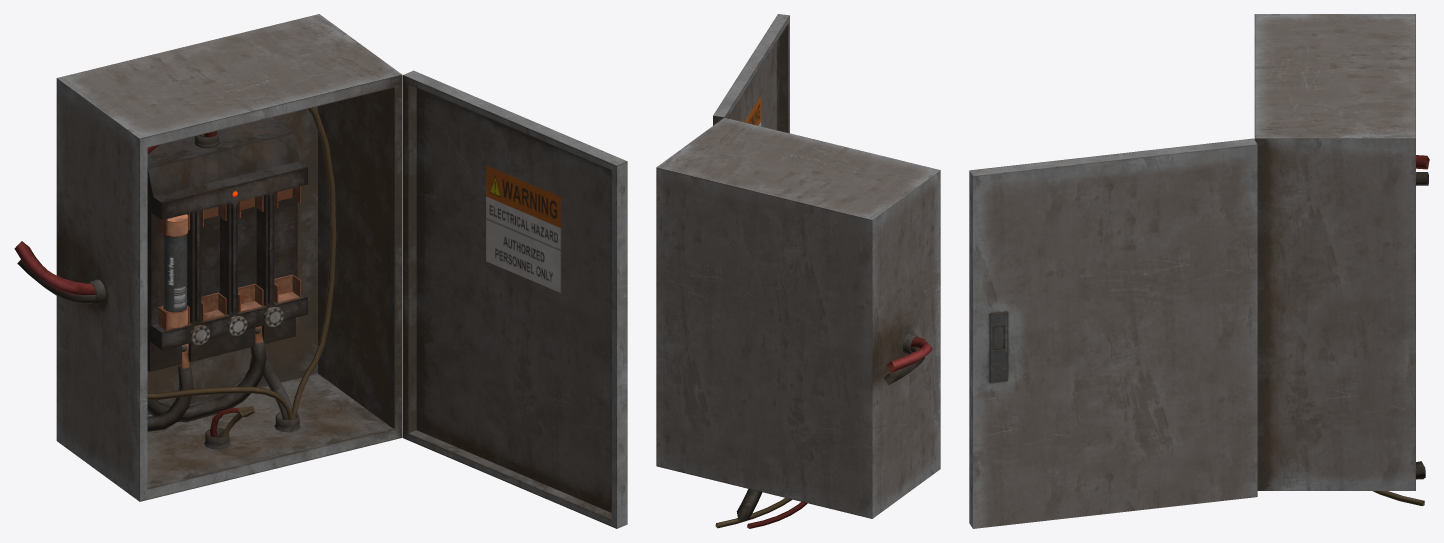
Rendered from Fuse3d.fbx.
The picture shows the model from 3 angles, left to right: view 1: azimuth 30°, elevation 25°; view 2: azimuth 150°, elevation 25°; view 3: azimuth 270°, elevation 25°; orthographic projection. The views are drawn at different scales.
Visible parts, largest first — view 1: Electrical cabinet, DoorElectricalCabinet, Fuse_Socket, Wire, Fuse; view 2: Electrical cabinet, DoorElectricalCabinet, Wire; view 3: DoorElectricalCabinet, Electrical cabinet, Wire.
Part boxes in pixels (<box>): Electrical cabinet: <box>56,14,402,501</box>; DoorElectricalCabinet: <box>403,70,627,528</box>; Fuse_Socket: <box>147,117,307,371</box>; Wire: <box>14,107,336,437</box>; Fuse: <box>162,214,188,327</box>; Electrical cabinet: <box>656,117,940,518</box>; DoorElectricalCabinet: <box>713,14,789,133</box>; Wire: <box>715,337,932,528</box>; DoorElectricalCabinet: <box>969,138,1257,528</box>; Electrical cabinet: <box>1254,14,1415,490</box>; Wire: <box>1372,155,1429,506</box>.
Bounding box in the file's own units: 39.99 × 41.26 × 42.58.
